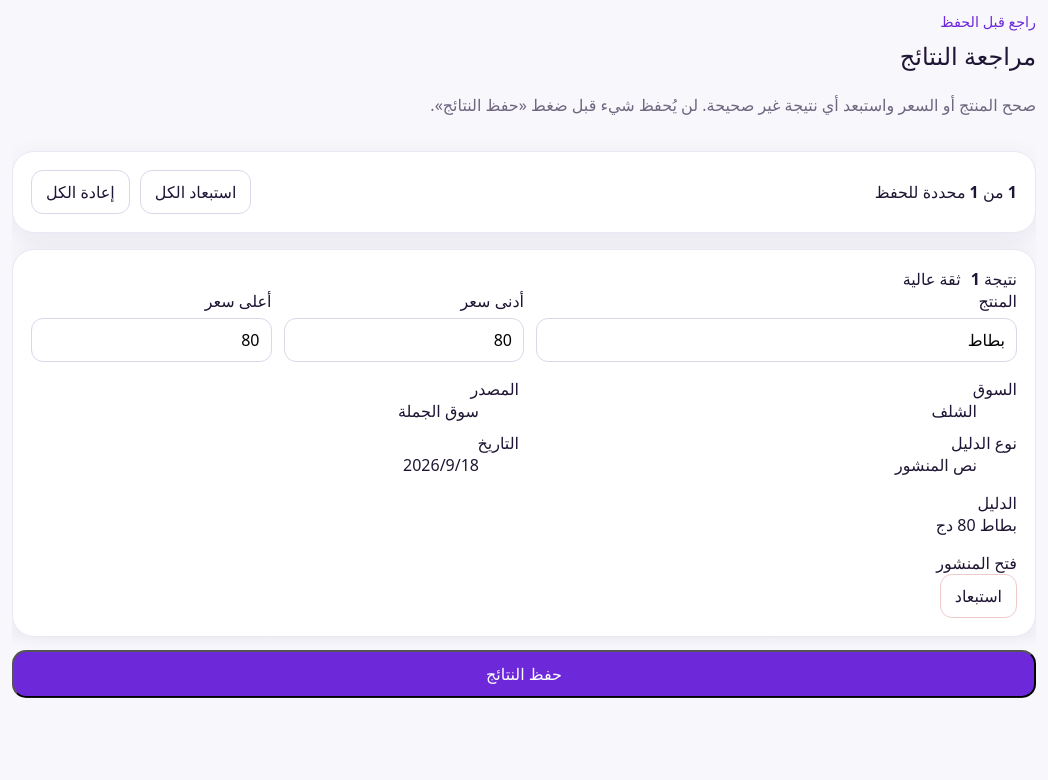
Test: ReviewPage › can reject a candidate without removing its evidence from the review UI
Check: the text "بطاط 80 دج" is shown, box [936,514,1017,536]
Click the button "استبعاد": click(978, 596) [940,574,1017,618]
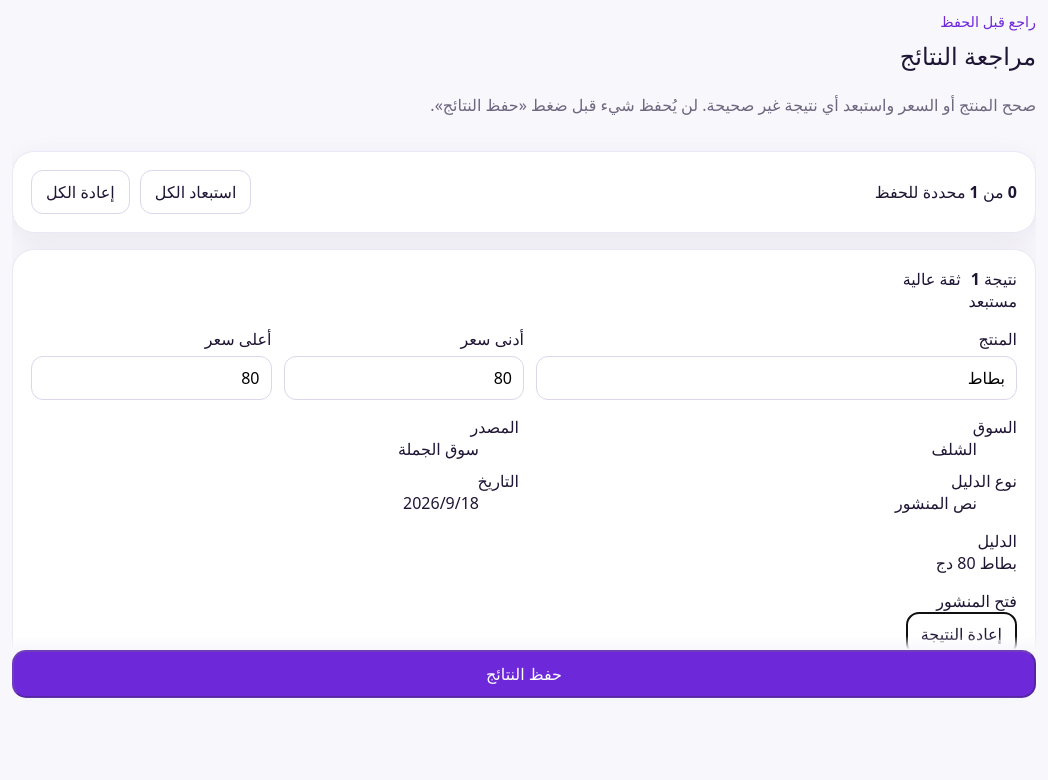
Check: the text "مستبعد" is shown, box [968,290,1017,312]
